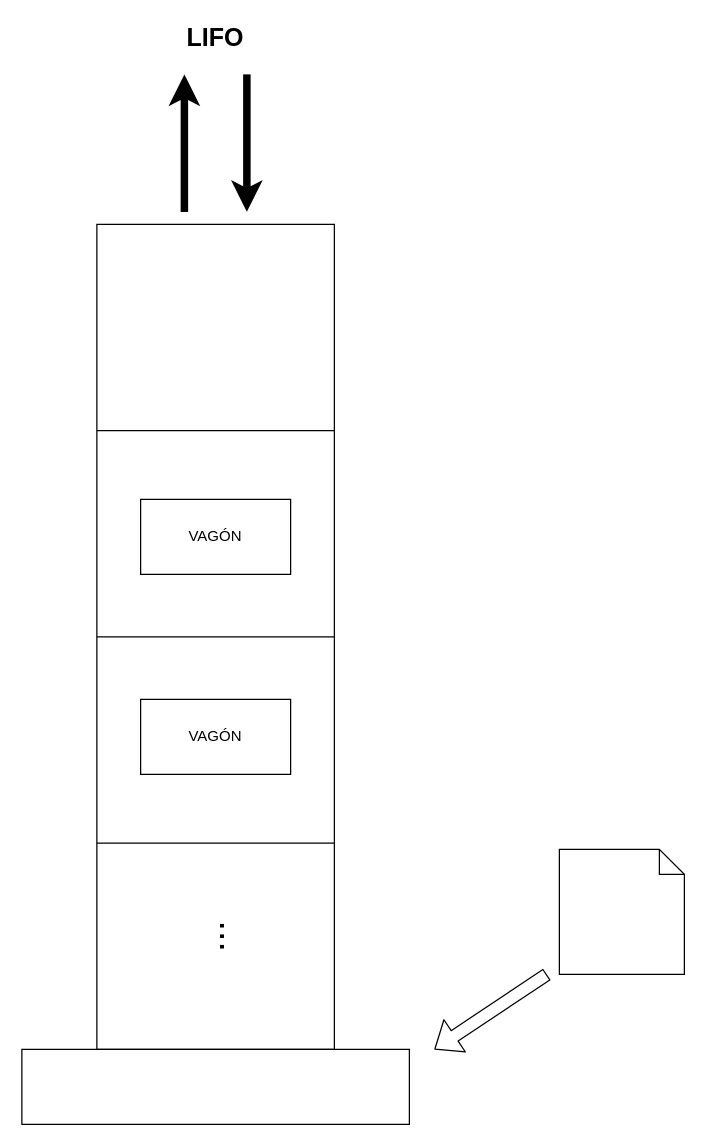
The diagram is 706 pixels wide and 1146 high, and some of its shapes have lost their labels. The shapes that lost their labels are listed below. From the top down, each one's centre as x and y in pixels, then its label:
At pixel 621 911: "El final de la pila".
At pixel 215 1086: "PARED".
